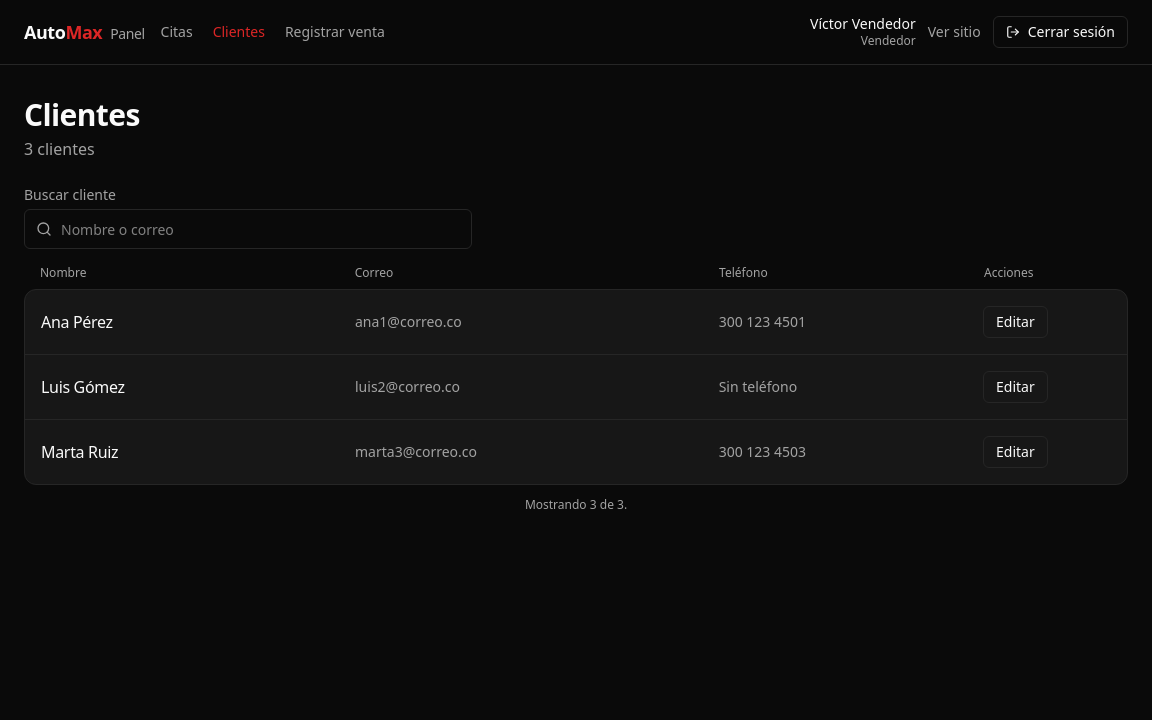
búsqueda de clientes › espera a que se deje de escribir y pide el texto al servidor (nunca filtra en el navegador)
Step 1. Type "marta" into the search field labelled "Buscar cliente" → (248, 229), box top-left (24, 209), bottom-right (472, 249)
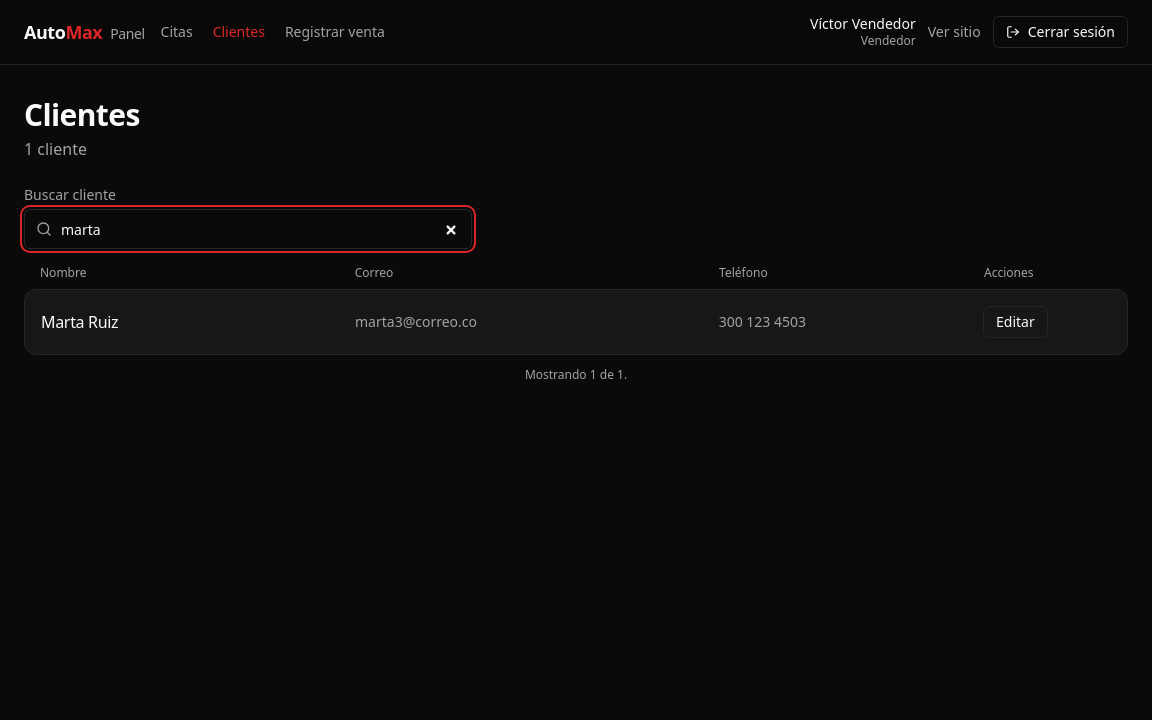
Check: the text "1 cliente" is shown, box top-left (24, 138), bottom-right (87, 160)
